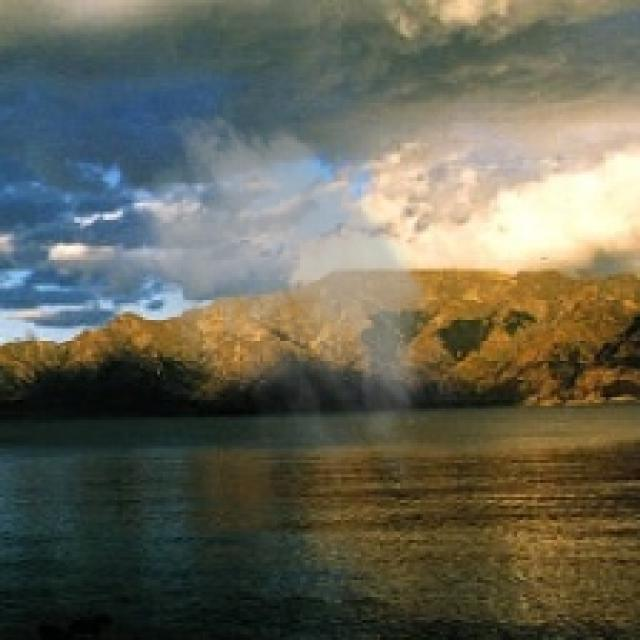Smoke: (114, 100, 469, 494)
